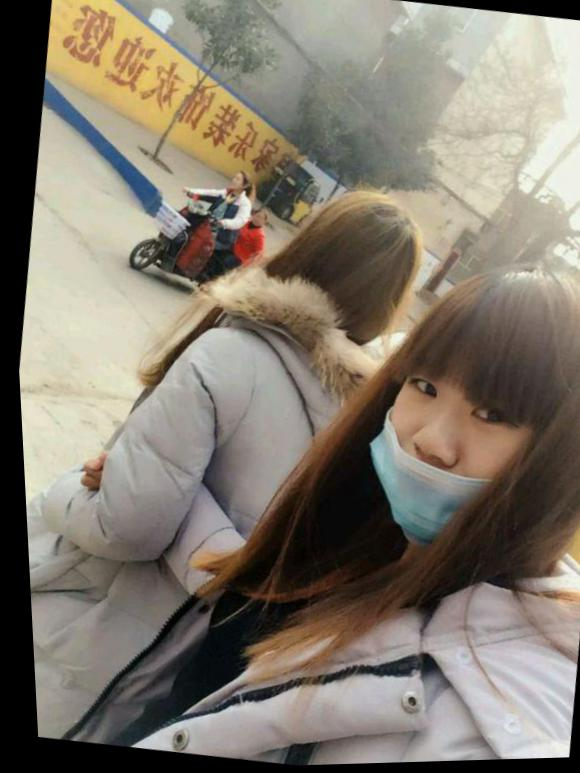NONE: (228, 174, 243, 193)
WRONG: (350, 344, 553, 544)
